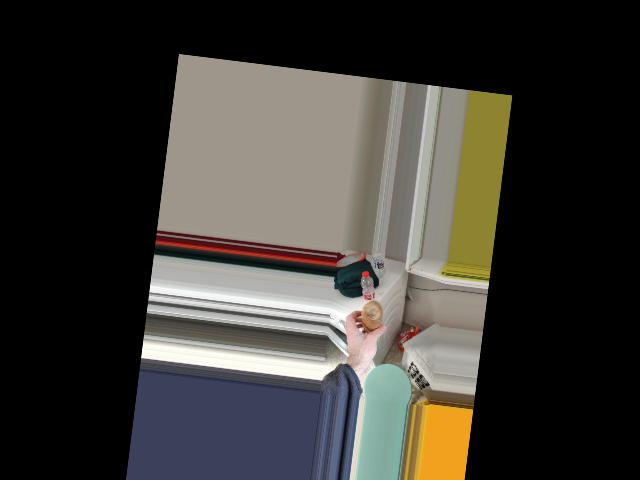sweet_potato: (353, 299, 387, 339)
